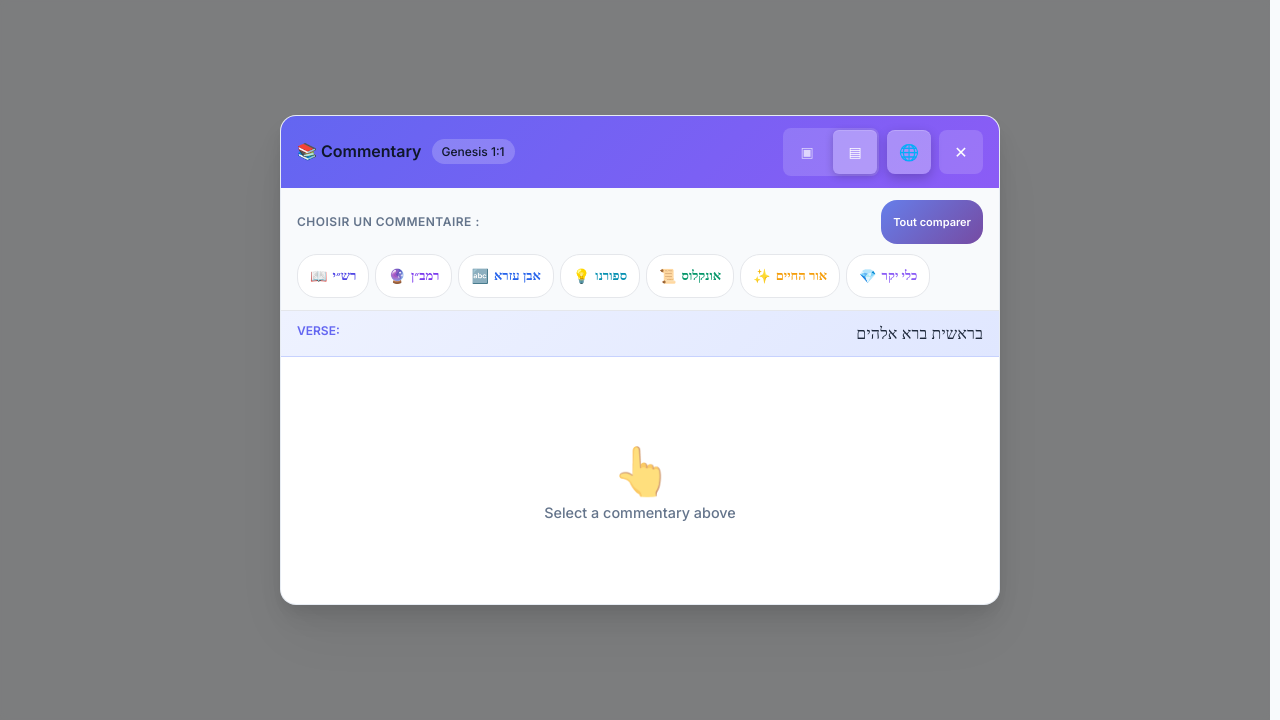
Scenario: CommentaryViewer › loading state › should show loading skeleton while fetching
Click the text "רש״י".
click(344, 276)  # box [332,268,356,284]
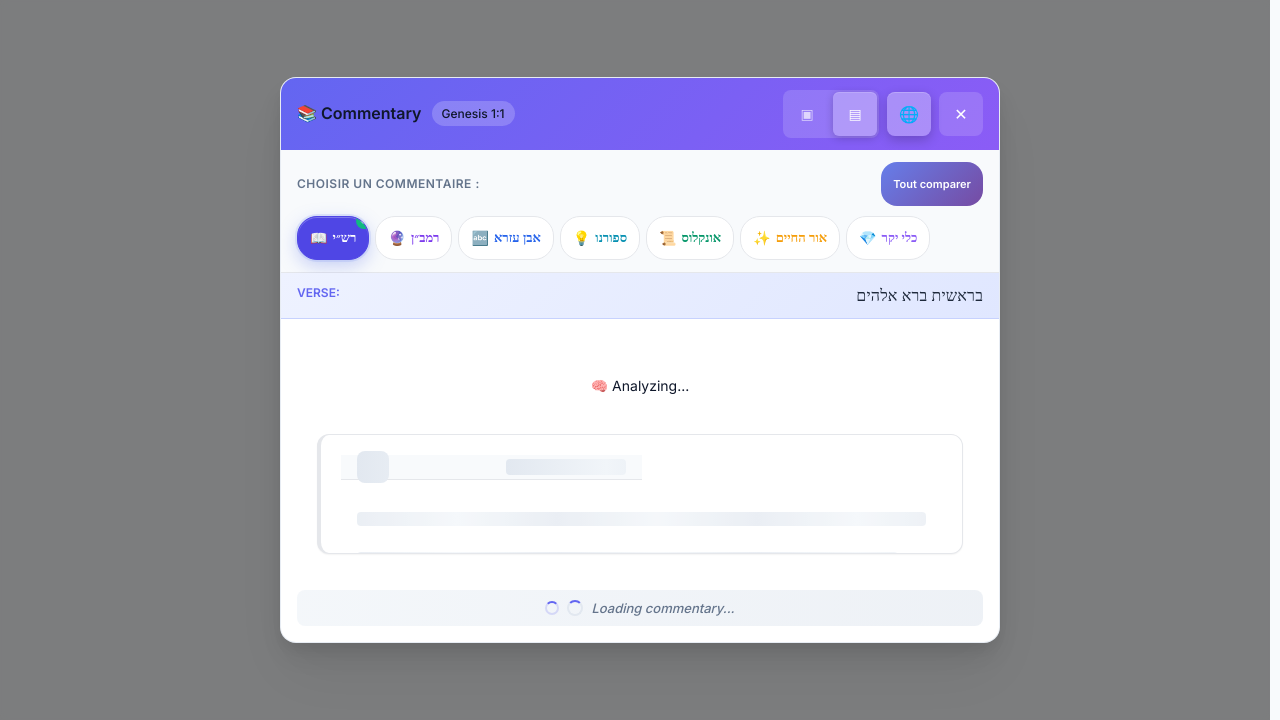
Expected: the text "Loading commentary..." is shown, [297,590,983,626]
